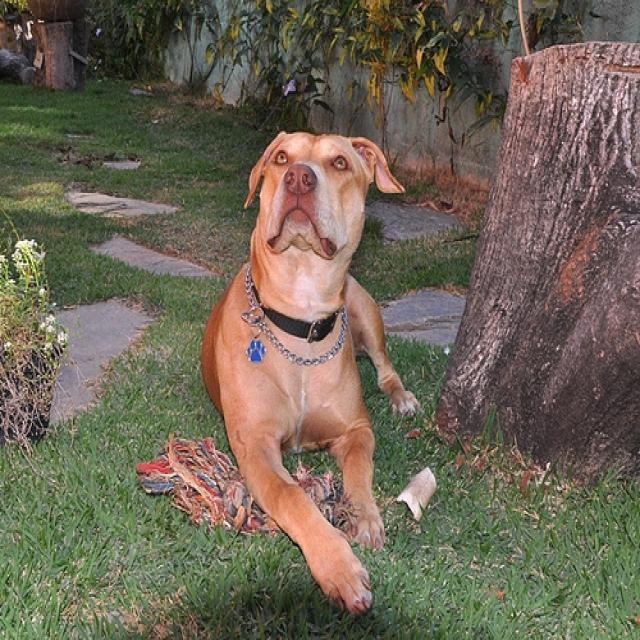dog-american_pit_bull_terrier: (191, 121, 422, 621)
